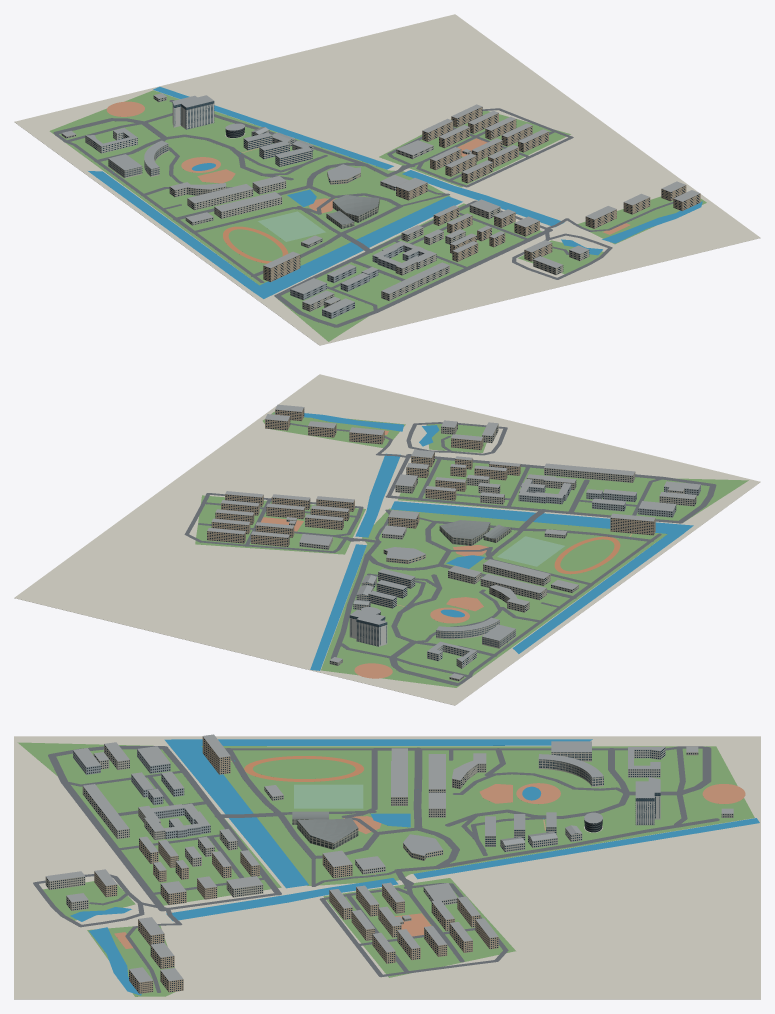
File: campus.glb
3 views of the same model, one above another, from view 1: azimuth 30°, elevation 25°; view 2: azimuth 150°, elevation 25°; view 3: azimuth 270°, elevation 25° (orthographic). The views are drawn at different scales.
Parts seen in each view (by area): view 1: Ground, GRASS_024, ROAD_001, WATER_002, ROAD_002, GRASS_019, GRASS_021, GRASS_023, GRASS_003, GRASS_035, WATER_001, WATER_003 (+25 smaller); view 2: Ground, GRASS_024, ROAD_001, WATER_002, ROAD_002, GRASS_019, GRASS_003, GRASS_021, GRASS_023, GRASS_004, WATER_001, WATER_003 (+30 smaller); view 3: Ground, GRASS_024, ROAD_001, WATER_002, ROAD_002, GRASS_019, GRASS_021, GRASS_003, GRASS_023, WATER_001, GRASS_035, ROAD_006 (+65 smaller).
Boxes of the visible parts, bbox=[...] form: Ground: bbox=[14, 14, 760, 345]; GRASS_024: bbox=[146, 115, 354, 217]; ROAD_001: bbox=[53, 100, 449, 282]; WATER_002: bbox=[88, 171, 363, 298]; ROAD_002: bbox=[274, 200, 544, 327]; GRASS_019: bbox=[197, 209, 337, 273]; GRASS_021: bbox=[334, 242, 463, 308]; GRASS_023: bbox=[312, 165, 441, 204]; GRASS_003: bbox=[49, 90, 394, 173]; GRASS_035: bbox=[413, 220, 524, 266]; WATER_001: bbox=[153, 86, 393, 169]; WATER_003: bbox=[356, 196, 462, 247]; Ground: bbox=[14, 374, 760, 705]; GRASS_024: bbox=[342, 560, 569, 655]; ROAD_001: bbox=[331, 509, 661, 685]; WATER_002: bbox=[512, 513, 693, 653]; ROAD_002: bbox=[385, 456, 716, 523]; GRASS_019: bbox=[492, 531, 646, 582]; GRASS_003: bbox=[321, 541, 461, 687]; GRASS_021: bbox=[511, 467, 655, 511]; GRASS_023: bbox=[371, 519, 445, 567]; GRASS_004: bbox=[472, 522, 667, 676]; WATER_001: bbox=[310, 544, 366, 670]; WATER_003: bbox=[391, 501, 535, 521]; Ground: bbox=[14, 736, 760, 999]; GRASS_024: bbox=[421, 750, 681, 863]; ROAD_001: bbox=[225, 746, 719, 886]; WATER_002: bbox=[164, 739, 592, 814]; ROAD_002: bbox=[48, 746, 281, 908]; GRASS_019: bbox=[233, 750, 371, 812]; GRASS_021: bbox=[71, 777, 224, 847]; GRASS_003: bbox=[402, 746, 754, 876]; GRASS_023: bbox=[315, 830, 451, 883]; WATER_001: bbox=[413, 818, 759, 879]; GRASS_035: bbox=[121, 838, 238, 892]; ROAD_006: bbox=[319, 883, 508, 977].
Size of the model in its own units: 920 by 44.5 by 1104.
129 materials, 56 textured.
